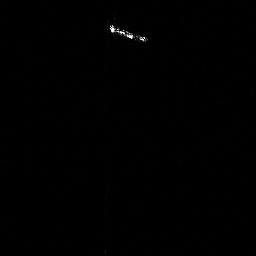ship: (109, 22, 148, 44)
